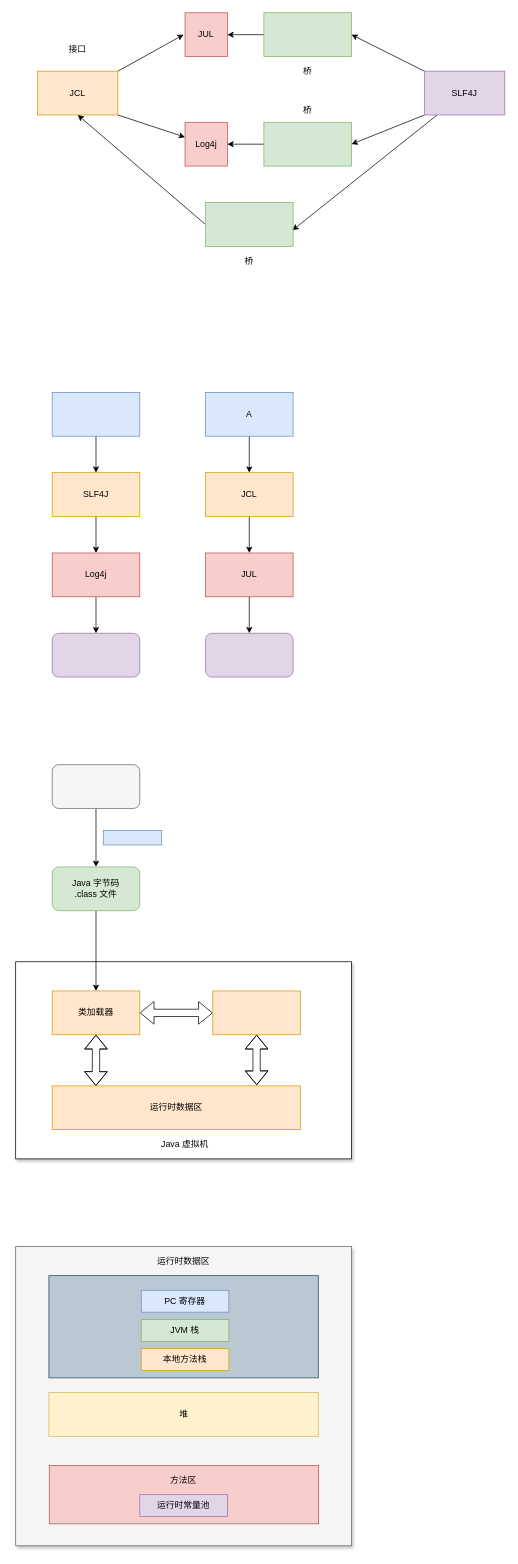
The diagram is 518 pixels wide and 1564 high, and some of its shapes have lost their labels. Each missing label, with the centre of its shape:
Java 源代码 .java 文件: the point at 95,786
Java 编译器: the point at 132,837
log1: the point at 95,655
log2: the point at 249,655
slf4j-jcl: the point at 249,224
slf4j-jdk: the point at 307,34
slf4j-log4j: the point at 307,144
我们的项目: the point at 95,414
执行引擎: the point at 256,1012
